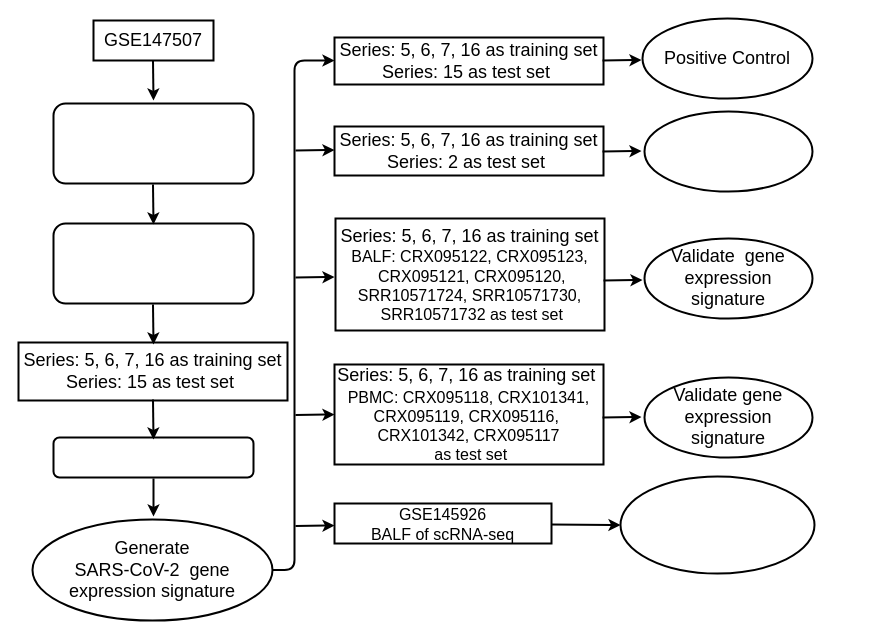
This 879x638 diagram has some shape labels left out. The centre of each missing label's shape, as x and y in pixels:
"ASSIGN" goes at point (153, 457).
"Characterize gene expression signature in single cell data" goes at point (717, 524).
"Excluded: not infected with SARS-CoV-2 or not from Homo sapiens" goes at point (153, 143).
"Negative Control" goes at point (728, 151).
"PCA Remove batch effect PCA to confirm" goes at point (153, 263).
